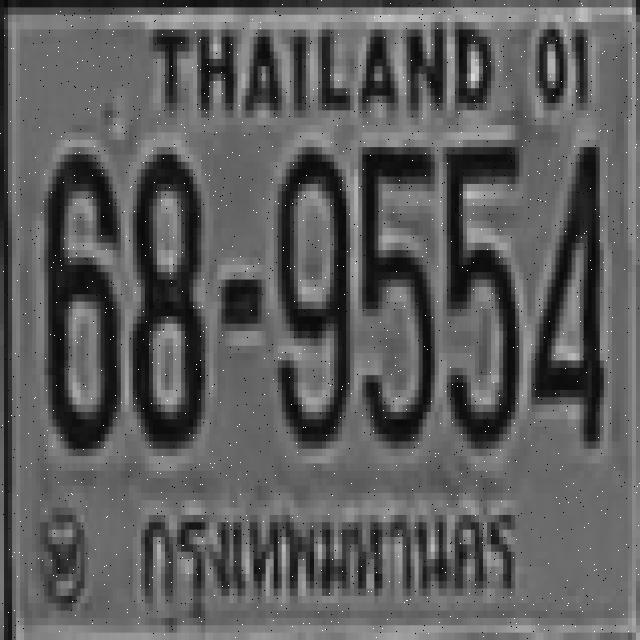4: (532, 140, 600, 442)
5: (443, 132, 515, 442), (358, 140, 431, 442)
6: (40, 147, 116, 449)
8: (129, 148, 201, 442)
9: (274, 140, 346, 442)
Bangkok: (136, 484, 524, 614)
